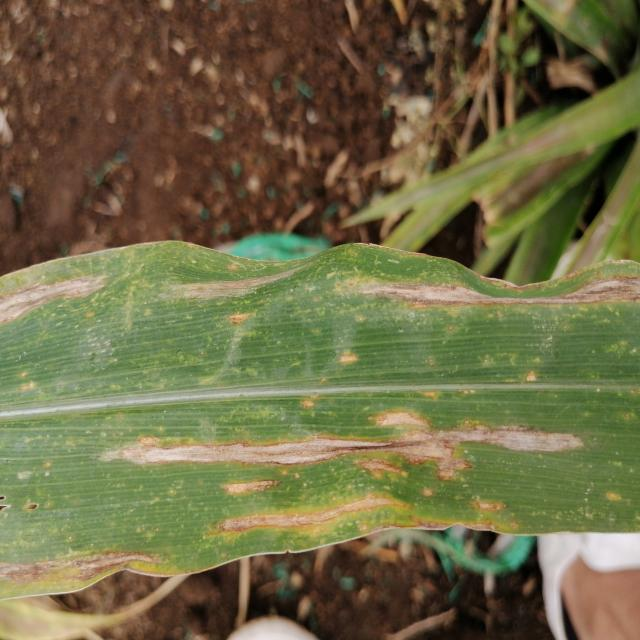Corn_Leaf_Blight: (4, 246, 640, 579)
